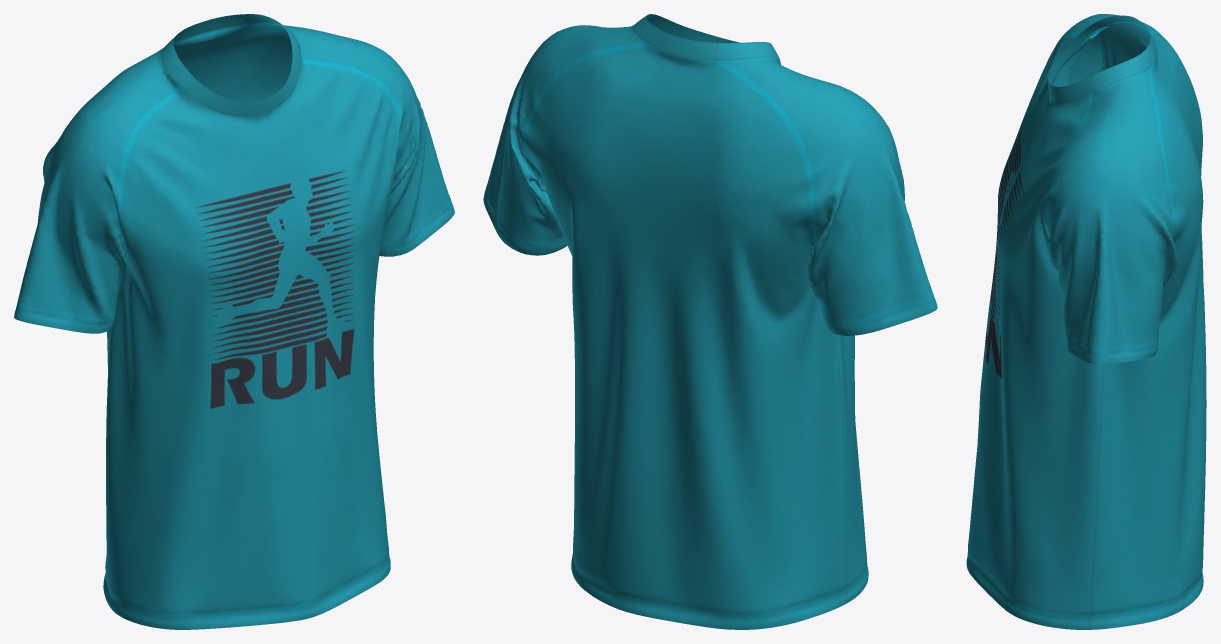
The model's file is camiseta-run-turquesa.glb.
The picture shows the model from 3 angles, left to right: view 1: azimuth 30°, elevation 25°; view 2: azimuth 150°, elevation 25°; view 3: azimuth 270°, elevation 25°; orthographic projection. The views are drawn at different scales.
Visible parts, largest first — view 1: Object_6; view 2: Object_6; view 3: Object_6.
Part boxes in pixels (box(x1,y1,x2,y2)): Object_6: box(14, 14, 454, 629); Object_6: box(483, 14, 937, 629); Object_6: box(966, 14, 1206, 629).
Size of the model in its own units: 0.5901 by 0.7 by 0.2841.
Materials: 1 (1 with a texture image).
